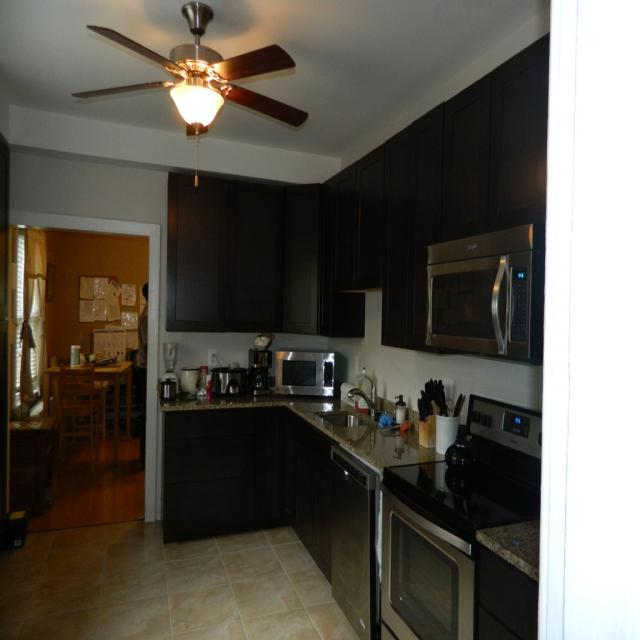Bulb: (70, 1, 310, 192)
